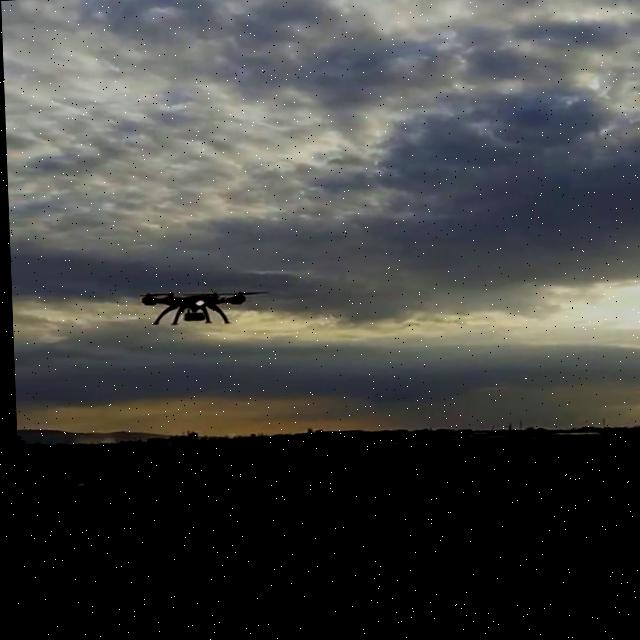drone: (126, 283, 268, 332)
